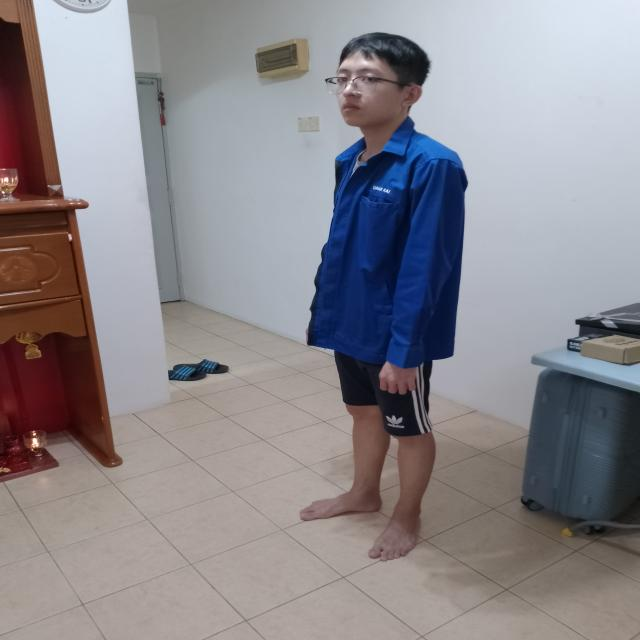person_with_labcoat: (300, 33, 467, 561)
